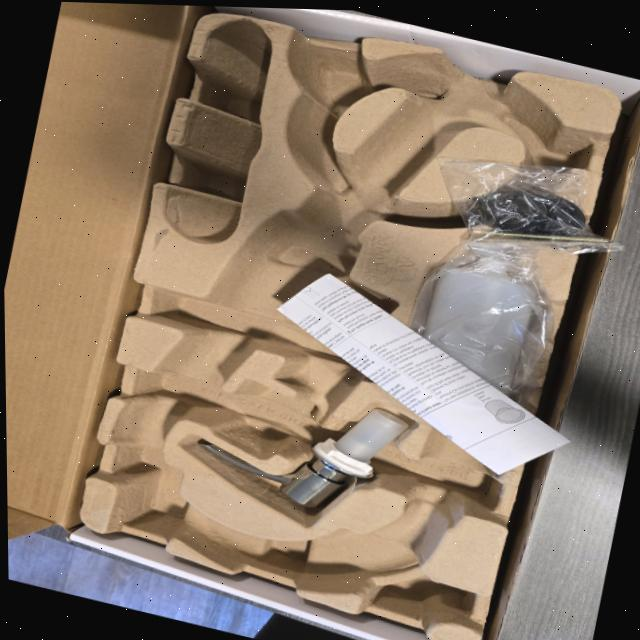1m: (116, 56, 522, 587)
2: (197, 408, 411, 511)
3o: (407, 240, 546, 418)
4m: (163, 19, 269, 244)
5m: (293, 52, 371, 111)
6m: (497, 104, 590, 184)
7: (438, 155, 627, 254)
8: (275, 270, 568, 475)
